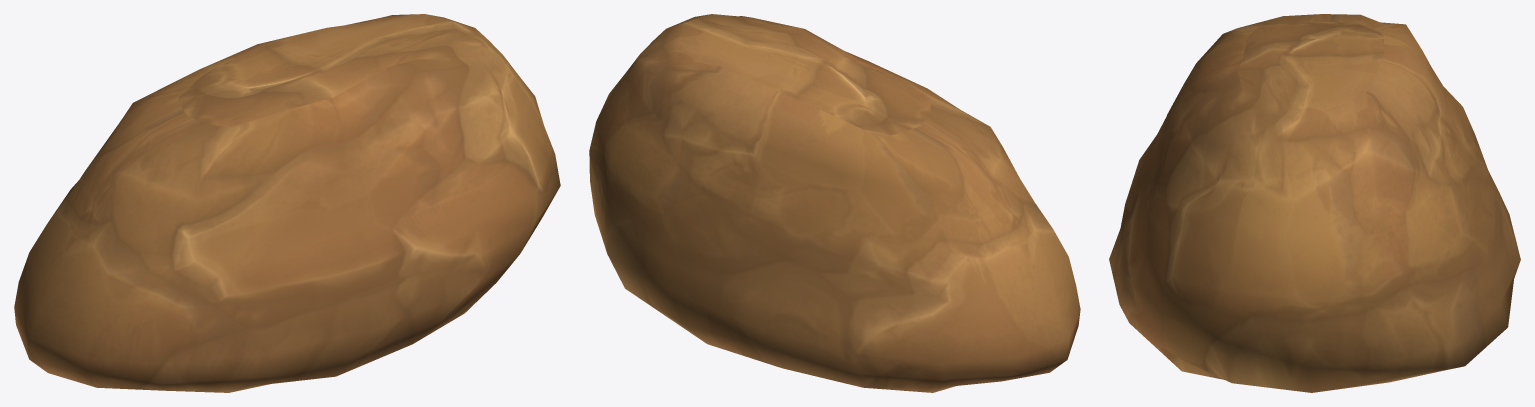
The model's file is Lowest_islands3.fbx.
The picture shows the model from 3 angles, left to right: view 1: azimuth 30°, elevation 25°; view 2: azimuth 150°, elevation 25°; view 3: azimuth 270°, elevation 25°; orthographic projection. The views are drawn at different scales.
Visible parts, largest first — view 1: Cube.002; view 2: Cube.002; view 3: Cube.002.
Boxes of the visible parts, <box> form: Cube.002: <box>14,14,560,392</box>; Cube.002: <box>589,14,1080,392</box>; Cube.002: <box>1109,14,1520,392</box>.
Size of the model in its own units: 1612 by 875 by 1020.
1 material, 1 textured.
